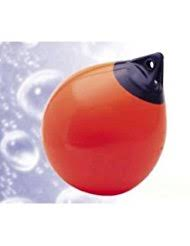buoy: (42, 61, 167, 195)
